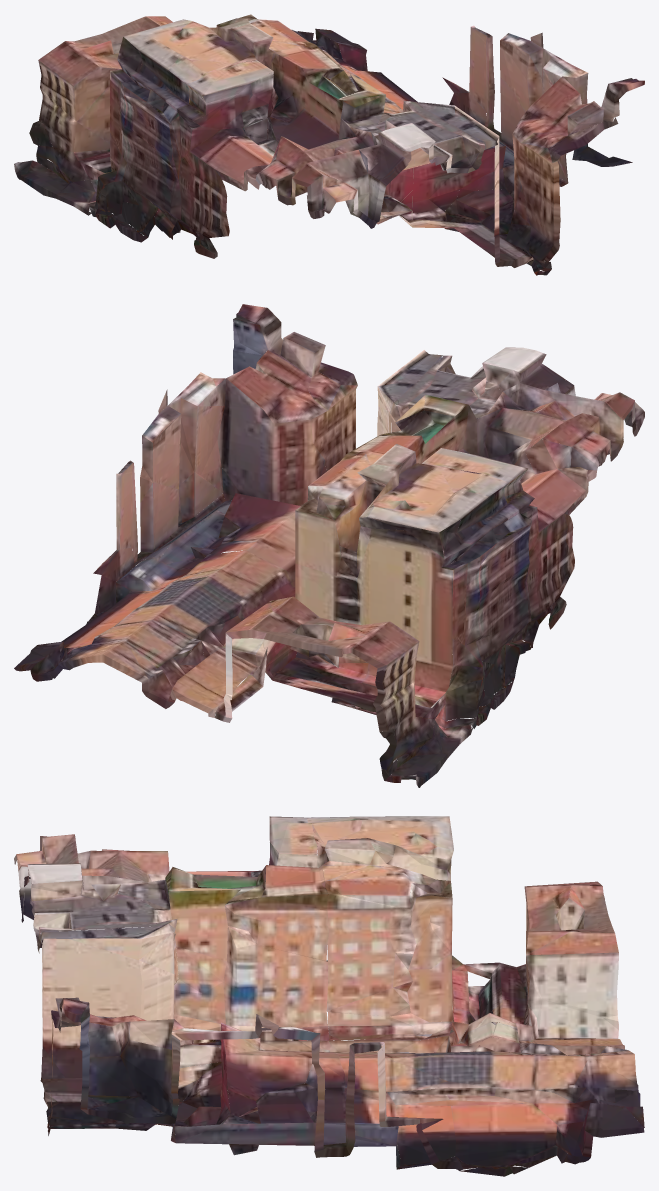
3 views of the same model, one above another, from view 1: azimuth 30°, elevation 25°; view 2: azimuth 150°, elevation 25°; view 3: azimuth 270°, elevation 25° (orthographic). The views are drawn at different scales.
Visible parts, largest first — view 1: Mesh_0; view 2: Mesh_0; view 3: Mesh_0.
Part boxes in pixels (bbox=[...]): Mesh_0: bbox=[14, 14, 644, 275]; Mesh_0: bbox=[14, 304, 644, 787]; Mesh_0: bbox=[14, 816, 644, 1176].
Size of the model in its own units: 66.54 by 31.6 by 82.51.
Materials: 2 (2 with a texture image).
